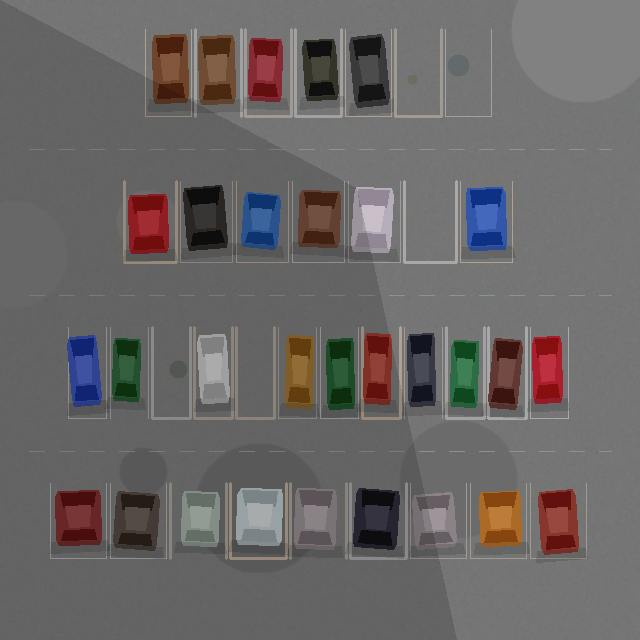space-empty: (404, 181, 456, 262), (395, 29, 441, 116), (445, 29, 491, 116), (152, 327, 190, 418), (236, 327, 274, 418)
space-occupied: (124, 181, 176, 262), (180, 181, 232, 262), (236, 181, 288, 262), (292, 181, 344, 262), (348, 181, 400, 262), (460, 181, 512, 262), (50, 483, 106, 558), (110, 483, 166, 558), (170, 483, 226, 558), (230, 483, 286, 558), (290, 483, 346, 558), (350, 483, 406, 558), (410, 483, 466, 558), (470, 483, 526, 558), (530, 483, 586, 558), (145, 29, 191, 116), (195, 29, 241, 116), (245, 29, 291, 116), (295, 29, 341, 116), (345, 29, 391, 116), (68, 327, 106, 418), (110, 327, 148, 418), (194, 327, 232, 418), (278, 327, 316, 418), (320, 327, 358, 418), (362, 327, 400, 418), (404, 327, 442, 418), (446, 327, 484, 418), (488, 327, 526, 418), (530, 327, 568, 418)
